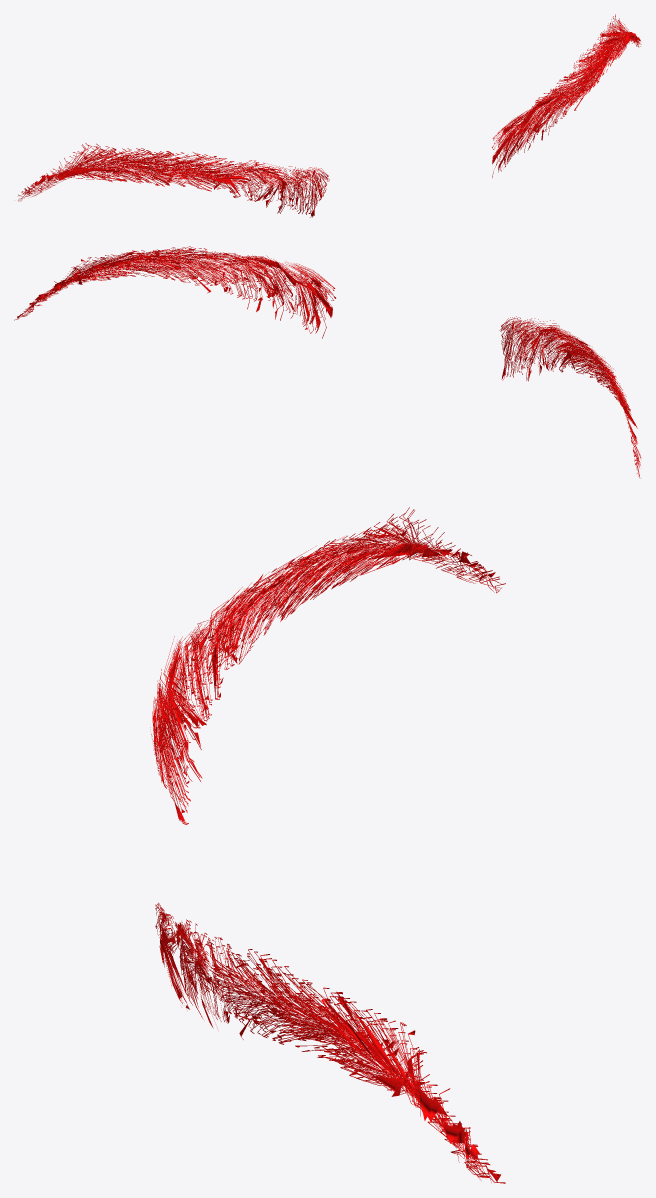
File: mindfront_eyebrows_10_M.glb
The picture shows the model from 3 angles, top to bottom: view 1: azimuth 30°, elevation 25°; view 2: azimuth 150°, elevation 25°; view 3: azimuth 270°, elevation 25°; orthographic projection. The views are drawn at different scales.
Size of the model in its own units: 0.1205 by 0.015 by 0.0298.
Materials: 1 (1 with a texture image).
